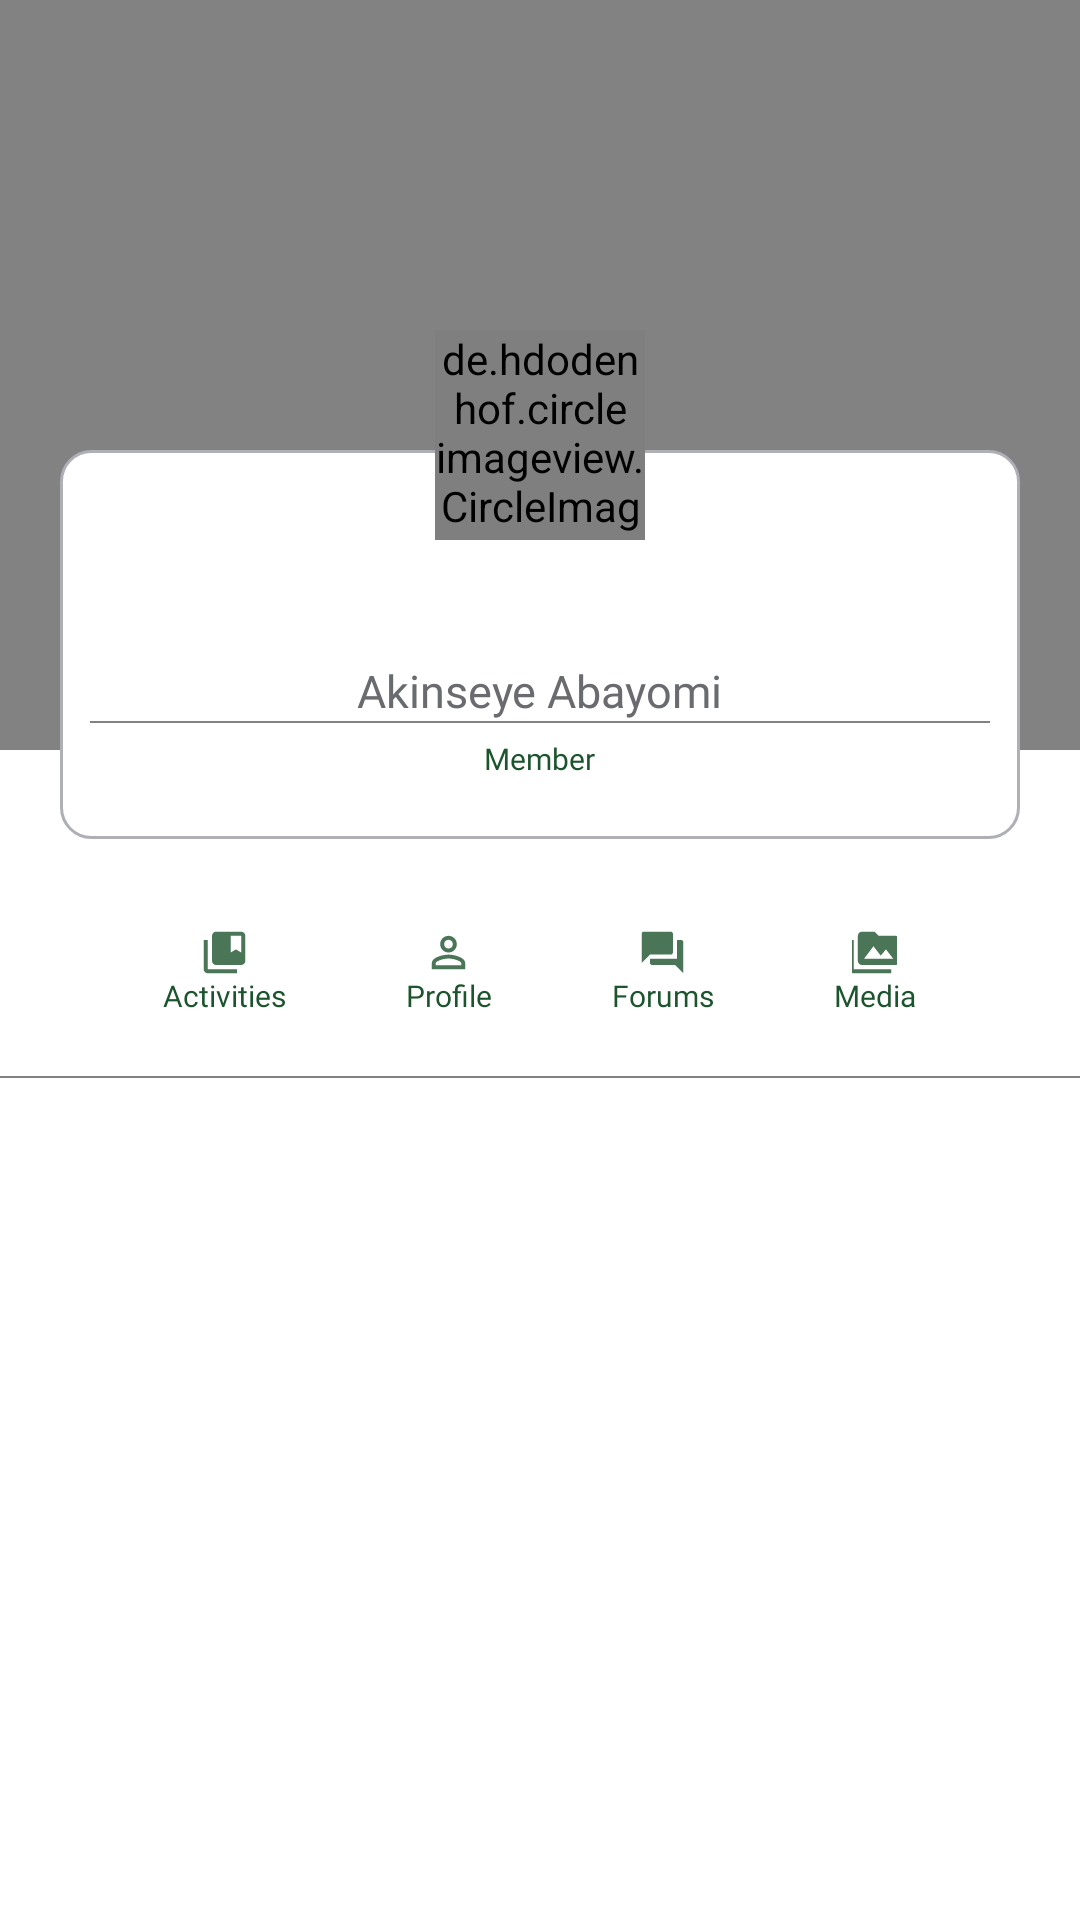

Icons on this 1080×1920 Android screen, each with the point to tap as point (x, y):
people: point (448, 952)
